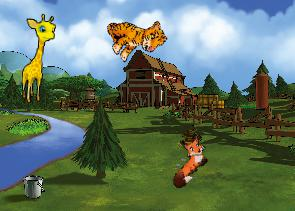fox: (156, 130, 217, 191)
giraffe: (20, 13, 57, 104)
tiger: (101, 3, 169, 68)
